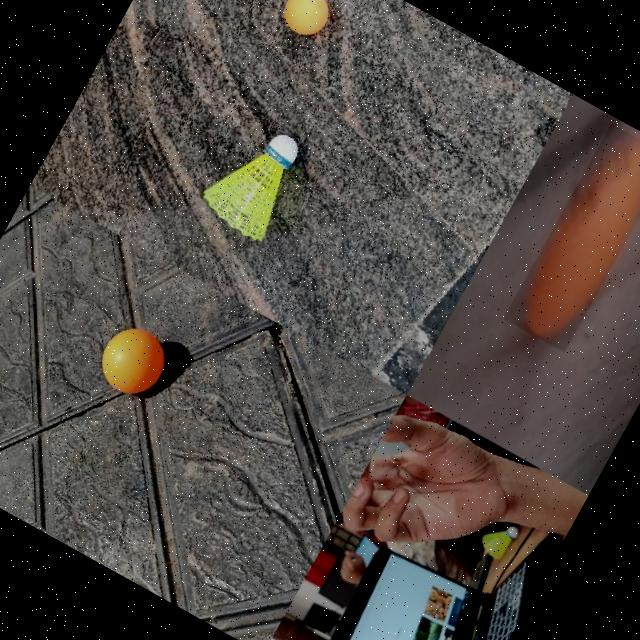ping-pong-ball: (501, 122, 640, 352), (90, 318, 174, 404), (273, 0, 334, 43)
